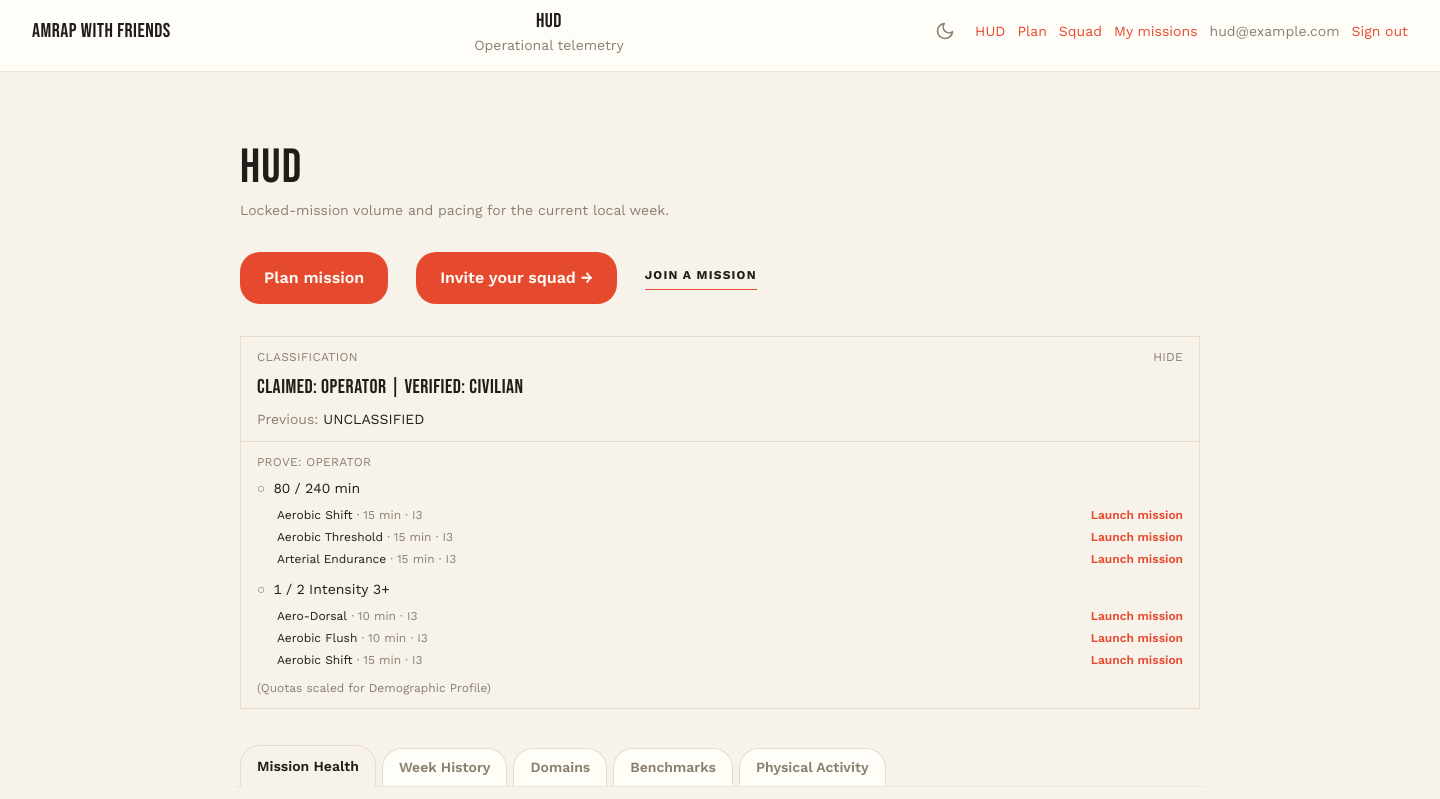
it: HUDPage tabs › opens Week History with the current week already inspected
Step 1. Click the tab "Week History" → (445, 767), box [382,748,508,786]
(page scrolled)
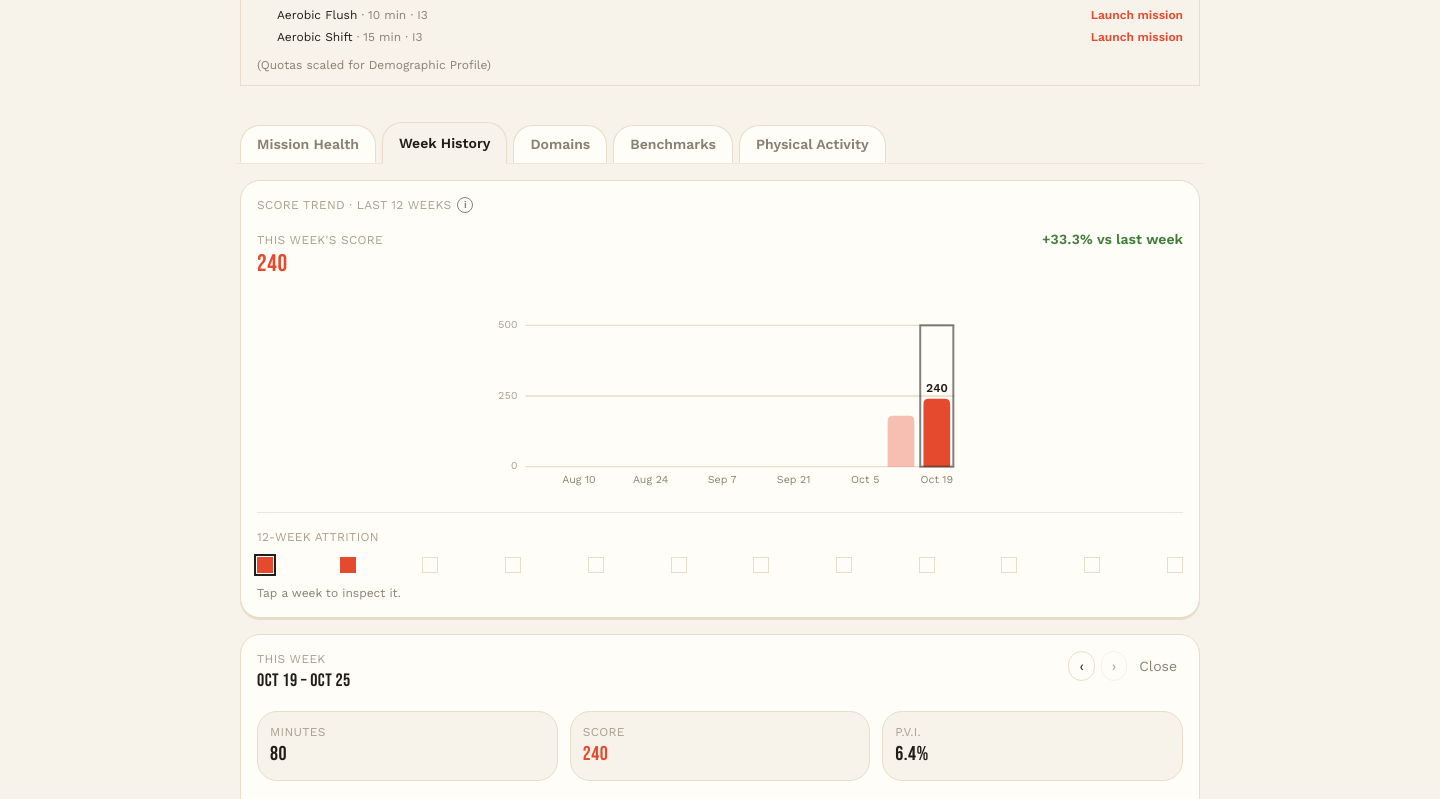
Expected: the text "This week" is shown, [257,652,326,666]
Now the element named "Week history trend" is shown, box [240,180,1200,618]
